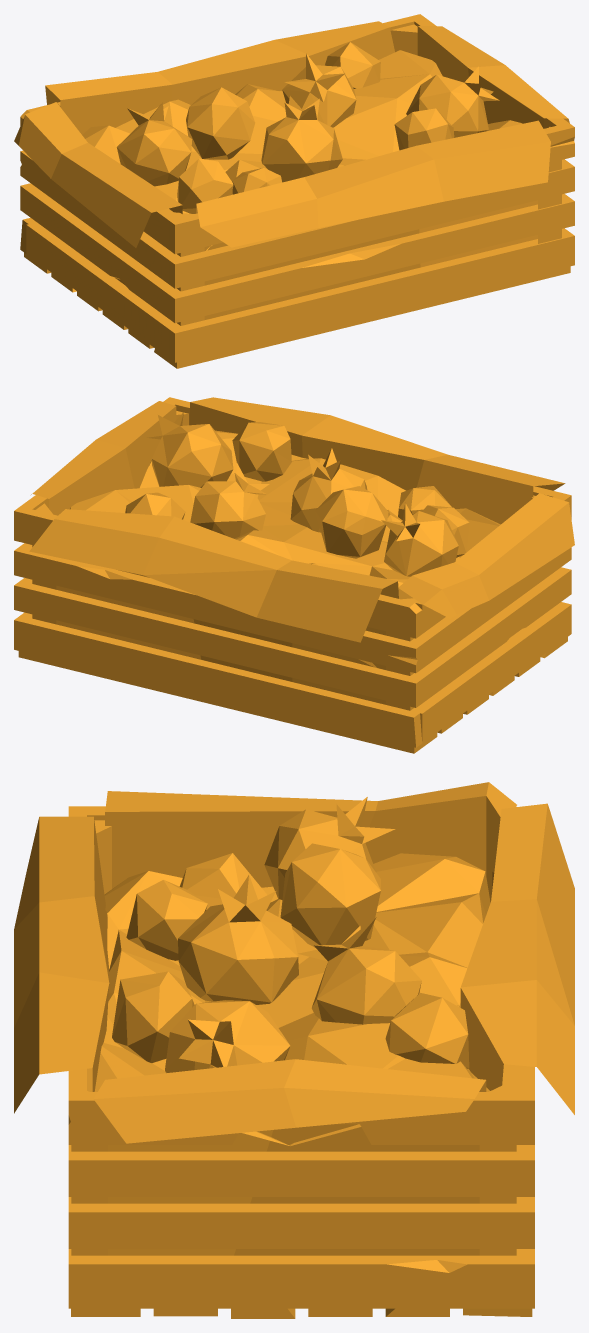
Rendered from SM_Crate_Wood_Medium_Paper_Tomatoes.fbx.
3 renders of one model, top to bottom at view 1: azimuth 30°, elevation 25°; view 2: azimuth 150°, elevation 25°; view 3: azimuth 270°, elevation 25°, orthographic. The views are drawn at different scales.
Parts seen in each view (by area): view 1: crate-wood-medium-paper-tomatoes; view 2: crate-wood-medium-paper-tomatoes; view 3: crate-wood-medium-paper-tomatoes.
Boxes of the visible parts, <box> form: crate-wood-medium-paper-tomatoes: <box>14,14,574,368</box>; crate-wood-medium-paper-tomatoes: <box>14,397,574,753</box>; crate-wood-medium-paper-tomatoes: <box>14,782,574,1318</box>.
Size of the model in its own units: 0.663 by 0.2691 by 0.4887.
